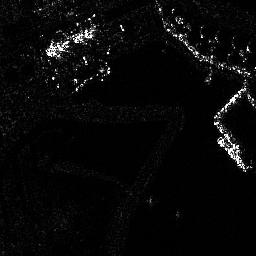ship: (216, 136, 249, 173)
